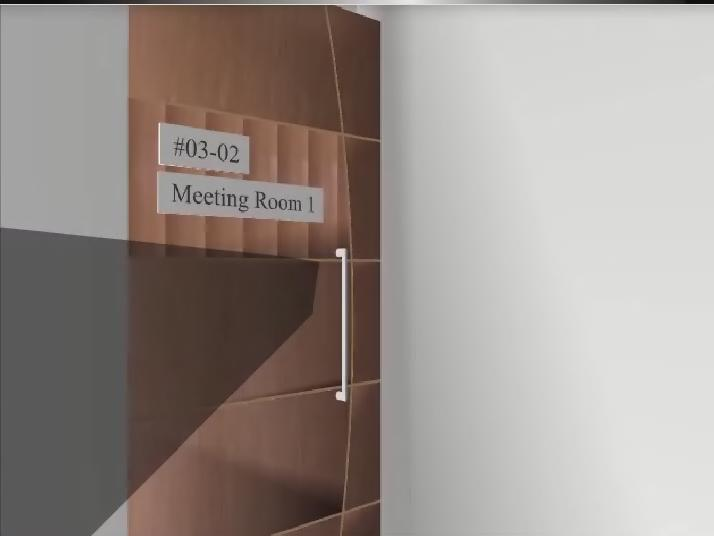door: (129, 5, 381, 536)
